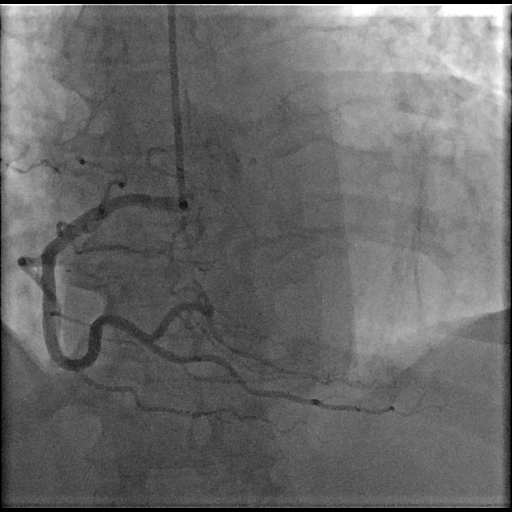RCA: (16, 178, 396, 416)
catherter: (168, 6, 187, 208)
